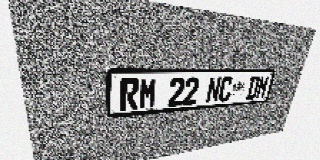2: (168, 77, 186, 107), (183, 77, 200, 105)
C: (217, 76, 234, 102)
D: (245, 76, 261, 100)
M: (139, 78, 158, 109), (255, 76, 270, 99)
N: (205, 77, 222, 103)
R: (120, 78, 139, 111)
